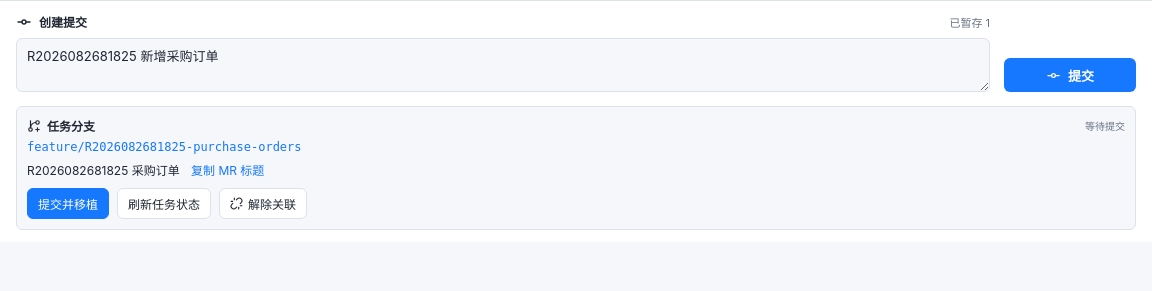
it: task branches › preserves the task and shows the error when unlink fails
Click the button with aria-label "解除关联" at [263, 204], box [219,188,307,219]
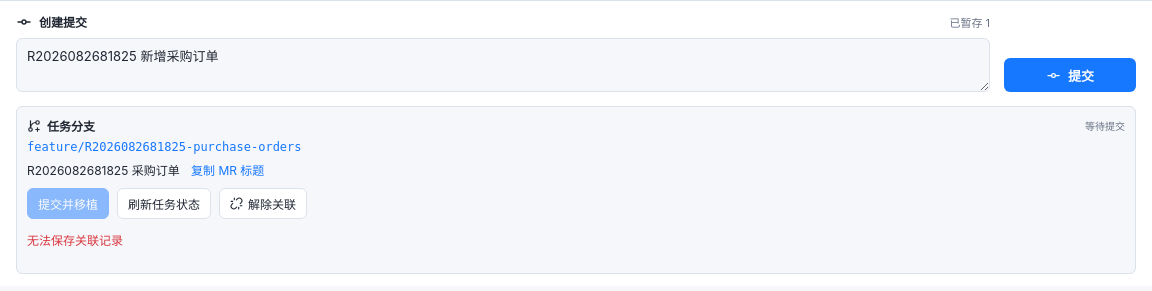
Expected: the text "feature/R2026082681825-purchase-orders" is shown, [27,140,302,154]
Expected: the text "无法保存关联记录" is shown, [27,233,123,248]
